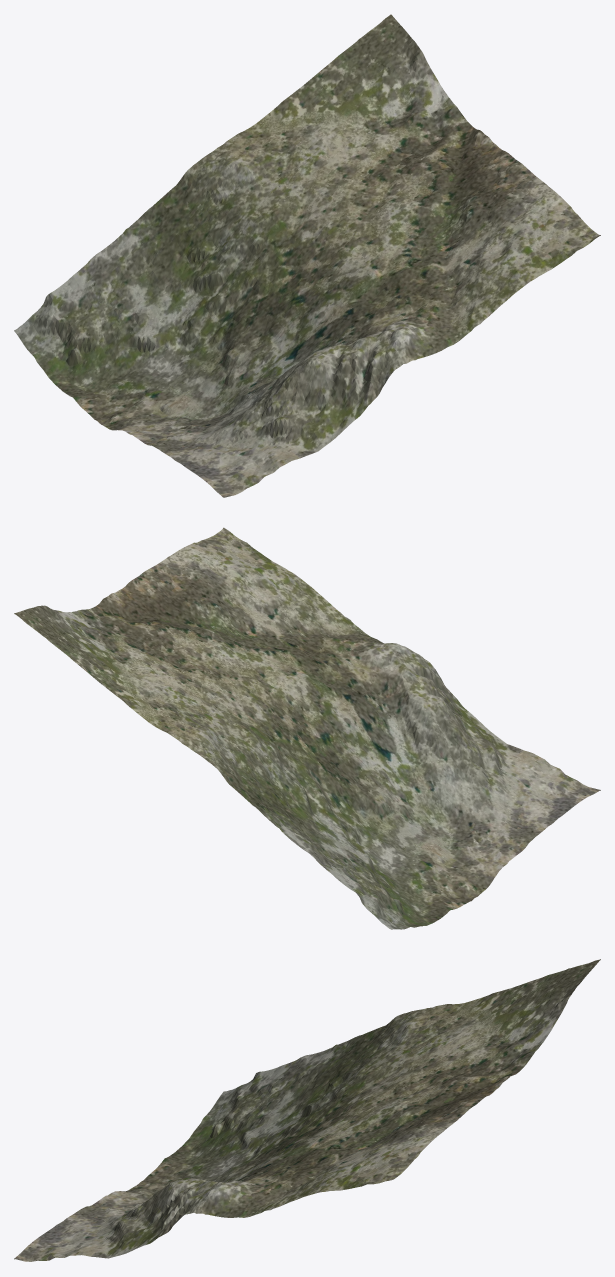
3 renders of one model, top to bottom at view 1: azimuth 30°, elevation 25°; view 2: azimuth 150°, elevation 25°; view 3: azimuth 330°, elevation 25°, orthographic.
Bounding box in the file's own units: 500 × 323 × 481.
1 material, 1 textured.
